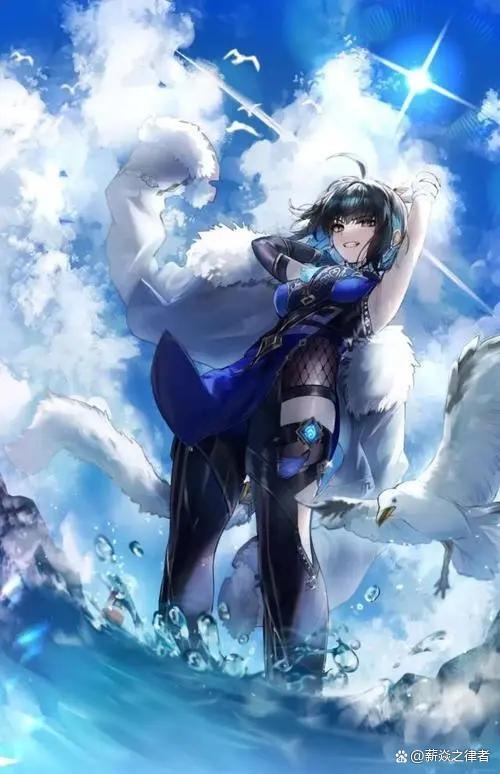夜兰: (152, 166, 440, 714)
